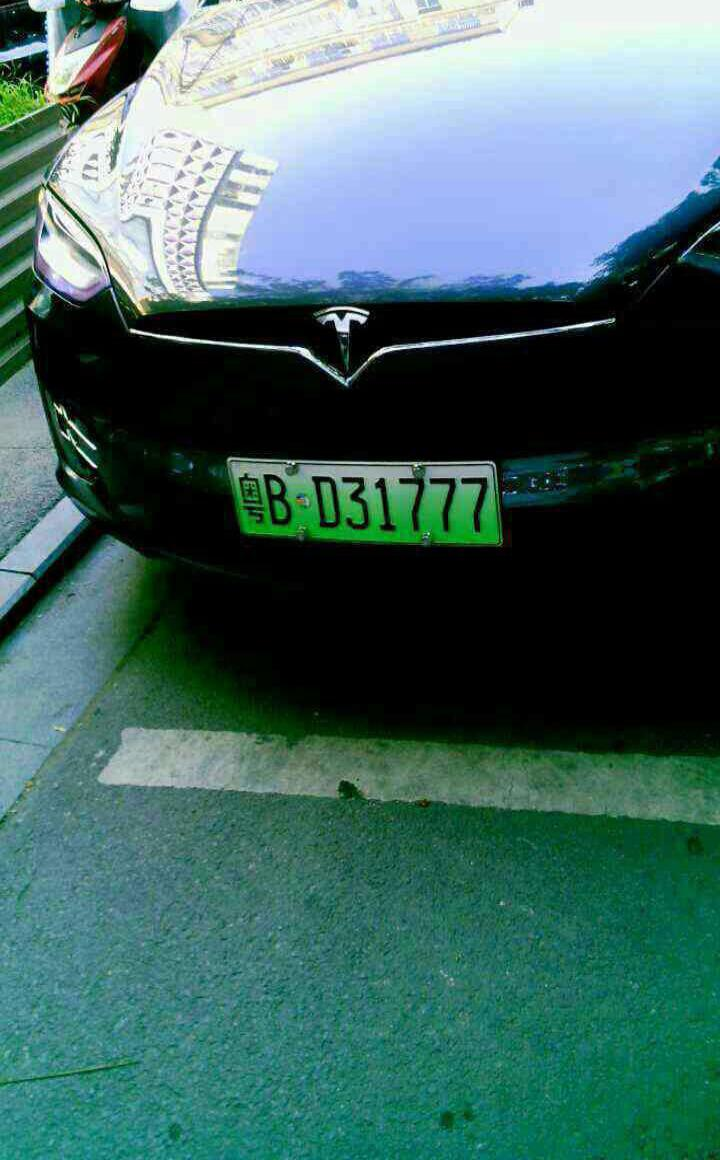car_id: (234, 458, 506, 547)
